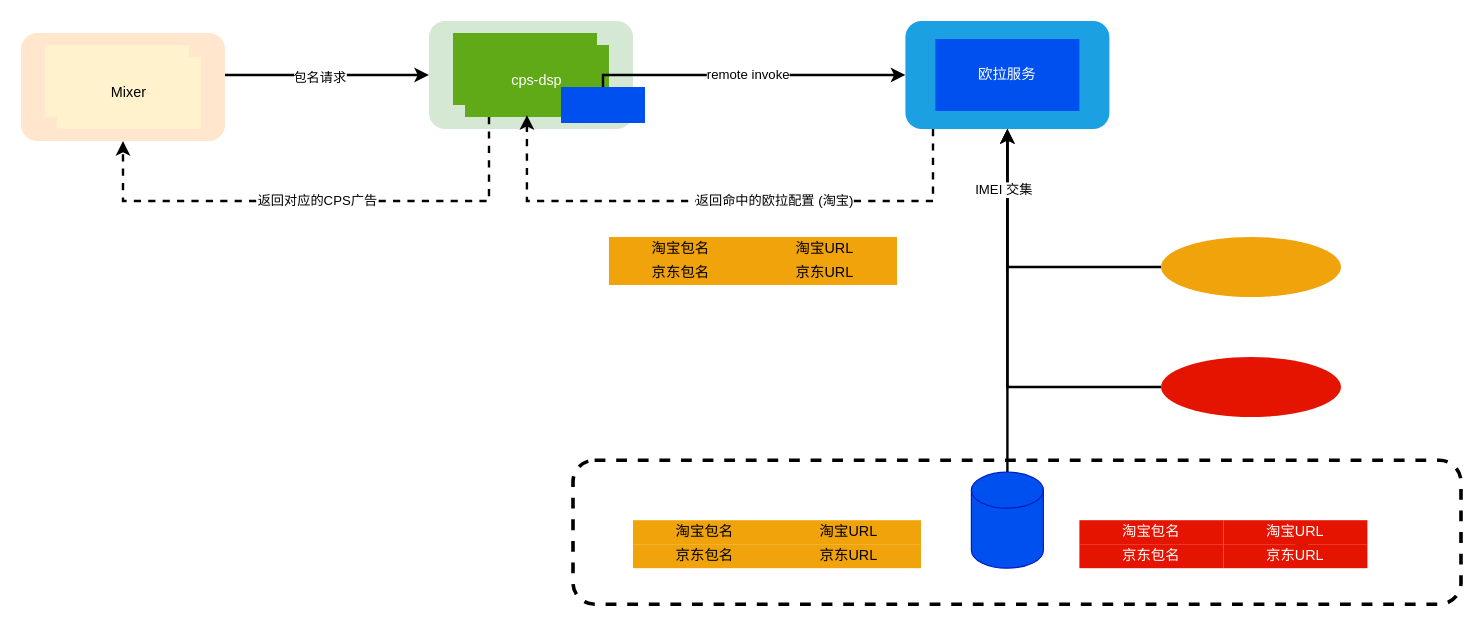
Some shapes in this 1483 by 626 pixel diagram are drawn without their labels. The shapes that lost their labels are listed below. From the top down, each one's centre as x and y in pixels, then its label:
(x=602, y=104): 欧拉SDK
(x=1250, y=266): 淘宝IMEI受众
(x=1250, y=386): 京东IMEI
(x=1006, y=519): 欧拉策略
